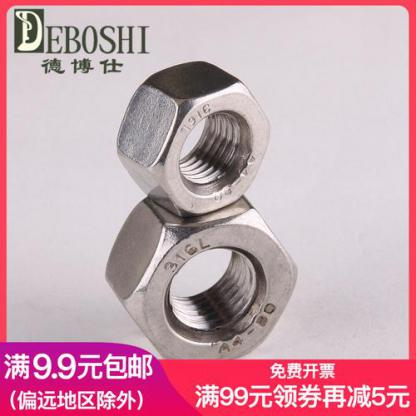FOD: (100, 186, 301, 371), (113, 57, 275, 218)
